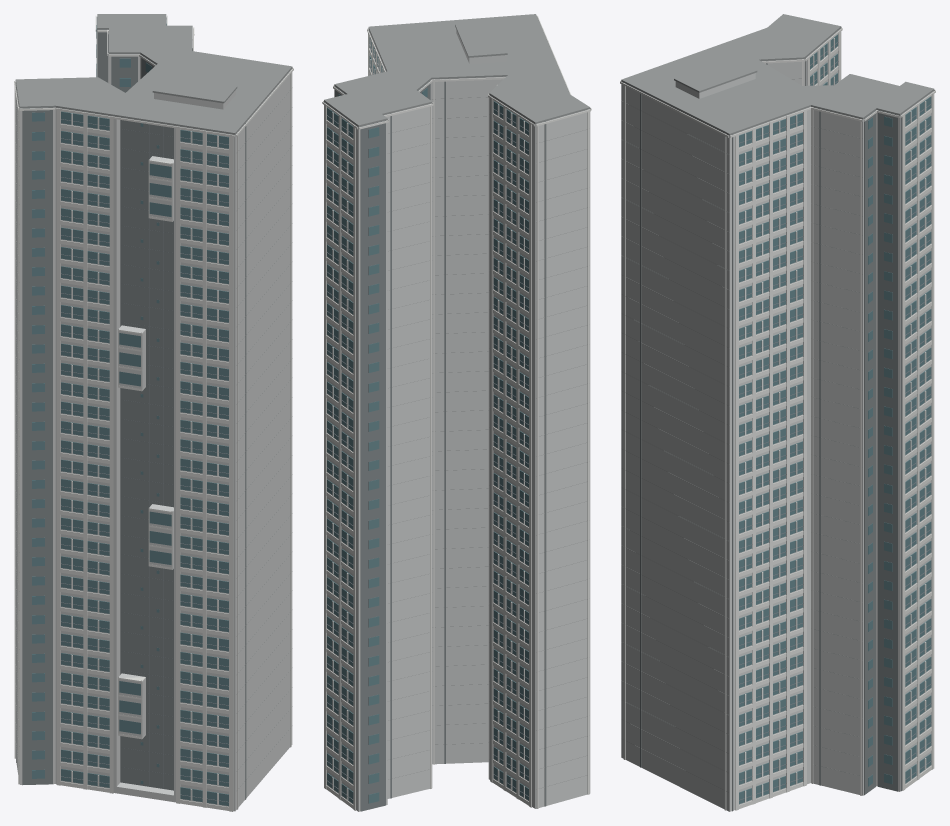
Rendered from bespoke-seoulforest-riverview-xi-105.glb.
The picture shows the model from 3 angles, left to right: view 1: azimuth 30°, elevation 25°; view 2: azimuth 150°, elevation 25°; view 3: azimuth 270°, elevation 25°; orthographic projection.
Visible parts, largest first — view 1: SFRX105_editable_SFRX105_light_grey_solid_wall, SFRX105_editable_SFRX105_deep_gray_recessed_service_wall, SFRX105_editable_SFRX105_broad_white_facade_frames, SFRX105_editable_SFRX105_blue_grey_horizontal_glazing, SFRX105_editable_SFRX105_modest_grey_flat_roof_caps, SFRX105_editable_SFRX105_dark_horizontal_spandrels_and_mulli; view 2: SFRX105_editable_SFRX105_light_grey_solid_wall, SFRX105_editable_SFRX105_broad_white_facade_frames, SFRX105_editable_SFRX105_blue_grey_horizontal_glazing, SFRX105_editable_SFRX105_deep_gray_recessed_service_wall, SFRX105_editable_SFRX105_modest_grey_flat_roof_caps, SFRX105_editable_SFRX105_dark_horizontal_spandrels_and_mulli; view 3: SFRX105_editable_SFRX105_light_grey_solid_wall, SFRX105_editable_SFRX105_broad_white_facade_frames, SFRX105_editable_SFRX105_blue_grey_horizontal_glazing, SFRX105_editable_SFRX105_deep_gray_recessed_service_wall, SFRX105_editable_SFRX105_modest_grey_flat_roof_caps, SFRX105_editable_SFRX105_dark_horizontal_spandrels_and_mulli.
Part boxes in pixels (<box>): SFRX105_editable_SFRX105_light_grey_solid_wall: <box>15,29,292,811</box>; SFRX105_editable_SFRX105_deep_gray_recessed_service_wall: <box>16,17,246,799</box>; SFRX105_editable_SFRX105_broad_white_facade_frames: <box>14,15,293,811</box>; SFRX105_editable_SFRX105_blue_grey_horizontal_glazing: <box>32,24,228,805</box>; SFRX105_editable_SFRX105_modest_grey_flat_roof_caps: <box>15,14,292,791</box>; SFRX105_editable_SFRX105_dark_horizontal_spandrels_and_mulli: <box>61,119,228,802</box>; SFRX105_editable_SFRX105_light_grey_solid_wall: <box>324,29,590,811</box>; SFRX105_editable_SFRX105_broad_white_facade_frames: <box>322,15,591,810</box>; SFRX105_editable_SFRX105_blue_grey_horizontal_glazing: <box>327,37,528,803</box>; SFRX105_editable_SFRX105_deep_gray_recessed_service_wall: <box>324,29,546,811</box>; SFRX105_editable_SFRX105_modest_grey_flat_roof_caps: <box>324,14,590,789</box>; SFRX105_editable_SFRX105_dark_horizontal_spandrels_and_mulli: <box>326,43,528,799</box>; SFRX105_editable_SFRX105_light_grey_solid_wall: <box>621,28,933,811</box>; SFRX105_editable_SFRX105_broad_white_facade_frames: <box>620,27,935,810</box>; SFRX105_editable_SFRX105_blue_grey_horizontal_glazing: <box>739,34,931,804</box>; SFRX105_editable_SFRX105_deep_gray_recessed_service_wall: <box>640,58,901,811</box>; SFRX105_editable_SFRX105_modest_grey_flat_roof_caps: <box>621,14,934,792</box>; SFRX105_editable_SFRX105_dark_horizontal_spandrels_and_mulli: <box>739,42,931,800</box>.
Size of the model in its own units: 38.81 by 103 by 42.77.
